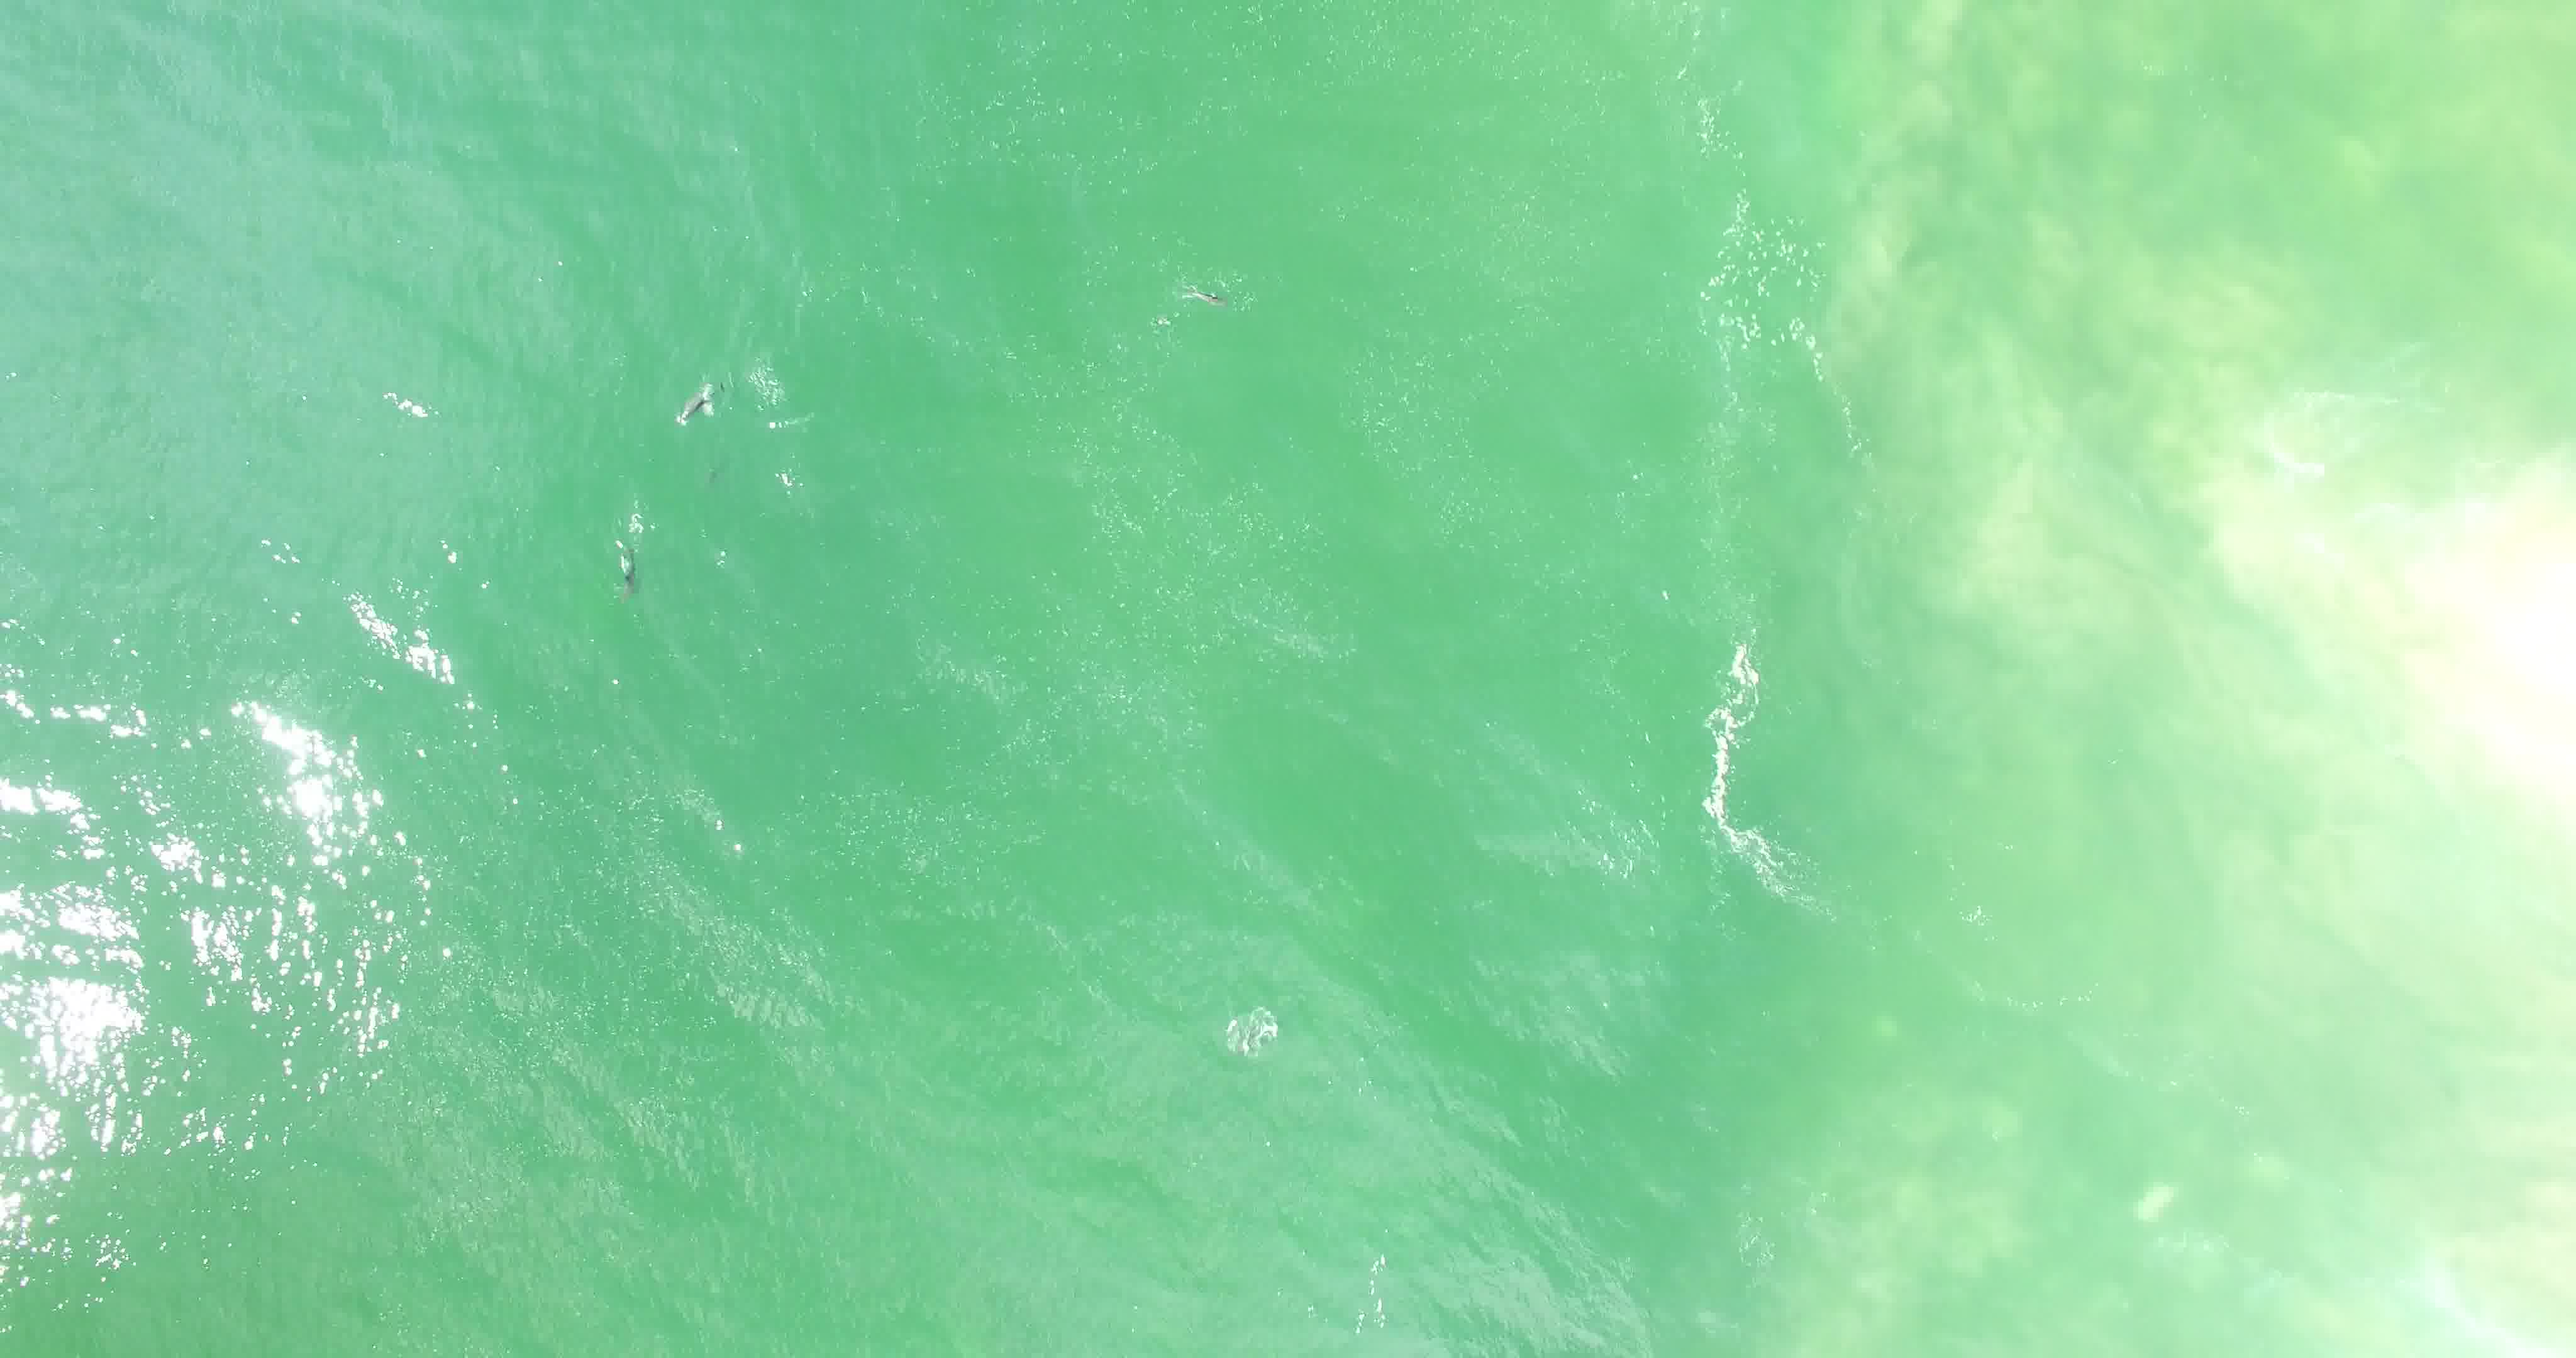dolphin: (1155, 264, 1256, 332), (646, 361, 741, 424), (598, 516, 656, 596), (1213, 995, 1278, 1062), (690, 434, 743, 501)
